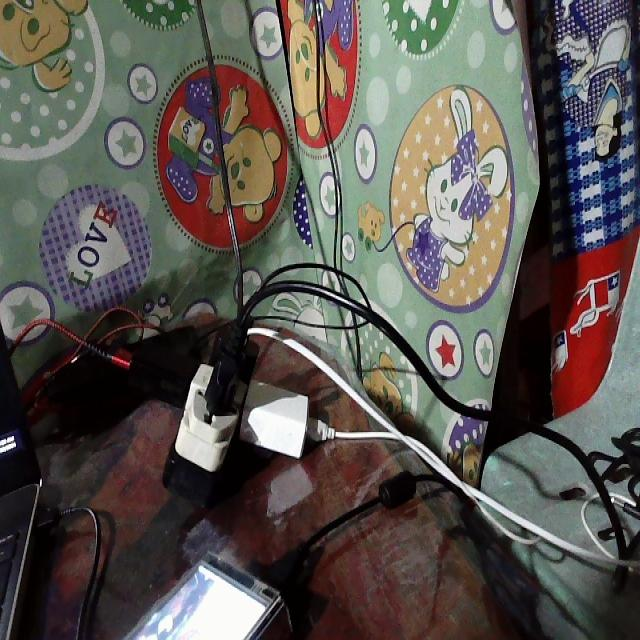-: (130, 298, 309, 502)
